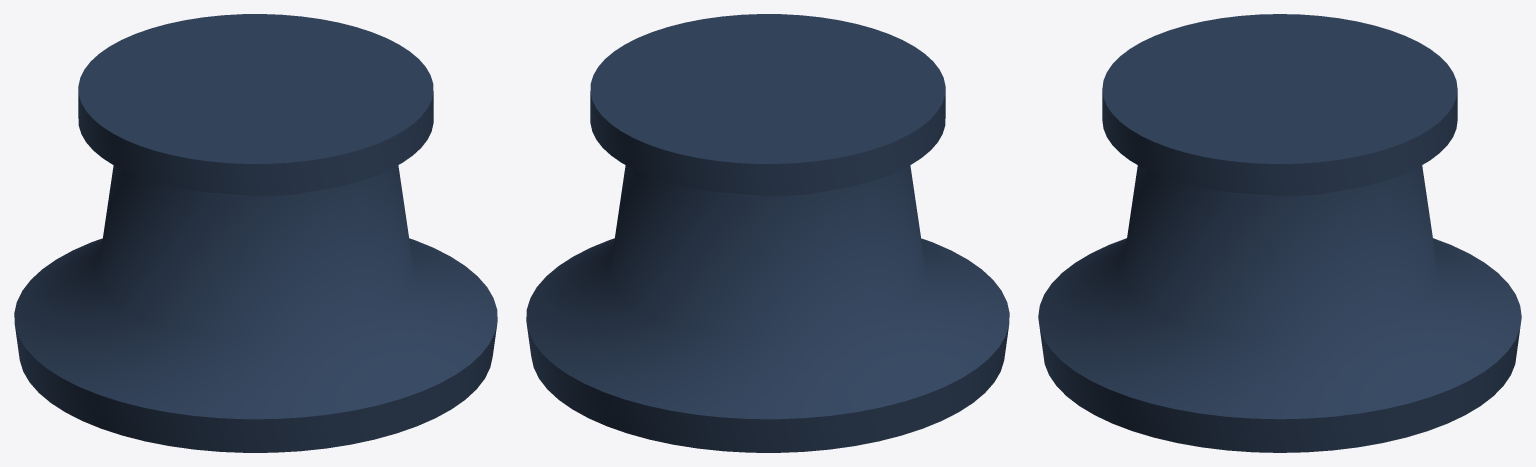
The model's file is planetarium-and-optical-observatory-projector-pedestal-aa621a52__31826.glb.
The picture shows the model from 3 angles, left to right: view 1: azimuth 30°, elevation 25°; view 2: azimuth 150°, elevation 25°; view 3: azimuth 270°, elevation 25°; orthographic projection.
Parts seen in each view (by area): view 1: projector-pedestal; view 2: projector-pedestal; view 3: projector-pedestal.
Boxes of the visible parts, x1=… form: projector-pedestal: x1=14, y1=14, x2=497, y2=452; projector-pedestal: x1=526, y1=14, x2=1009, y2=452; projector-pedestal: x1=1038, y1=14, x2=1521, y2=452.
Bounding box in the file's own units: 0.98 × 0.59 × 0.98.
